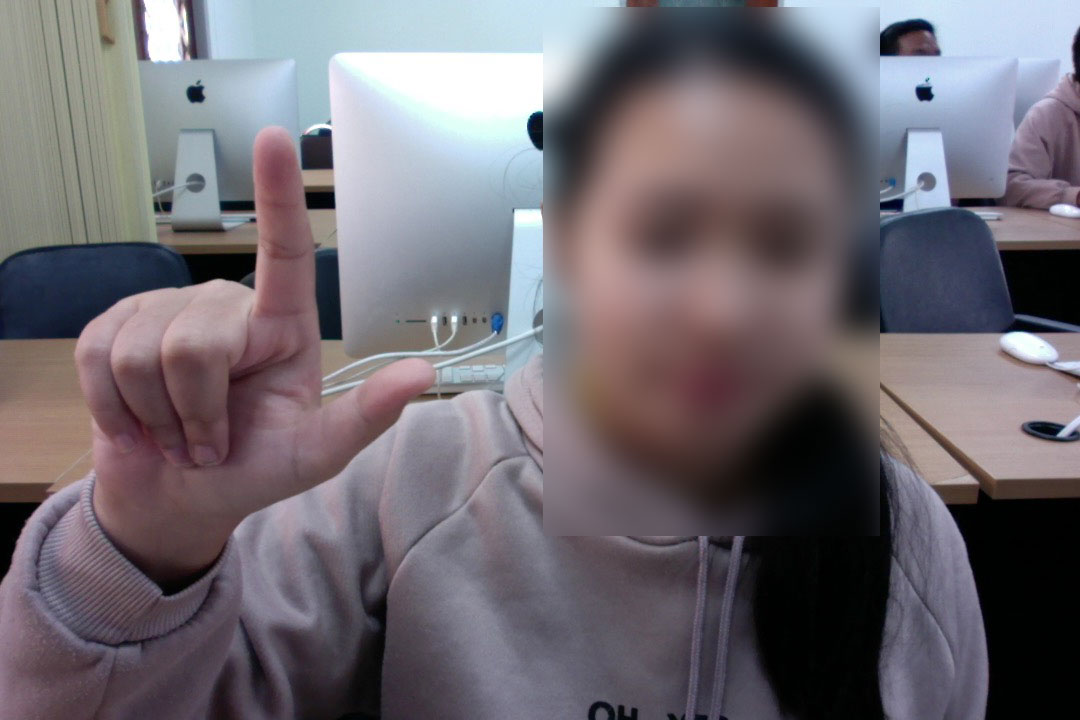lor: (53, 123, 443, 531)
